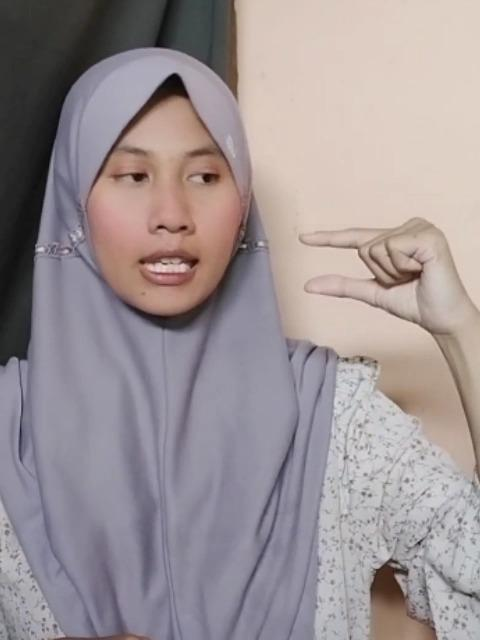G: (294, 210, 476, 340)
